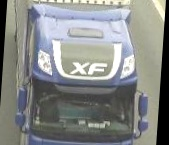truck: (3, 0, 157, 145)
